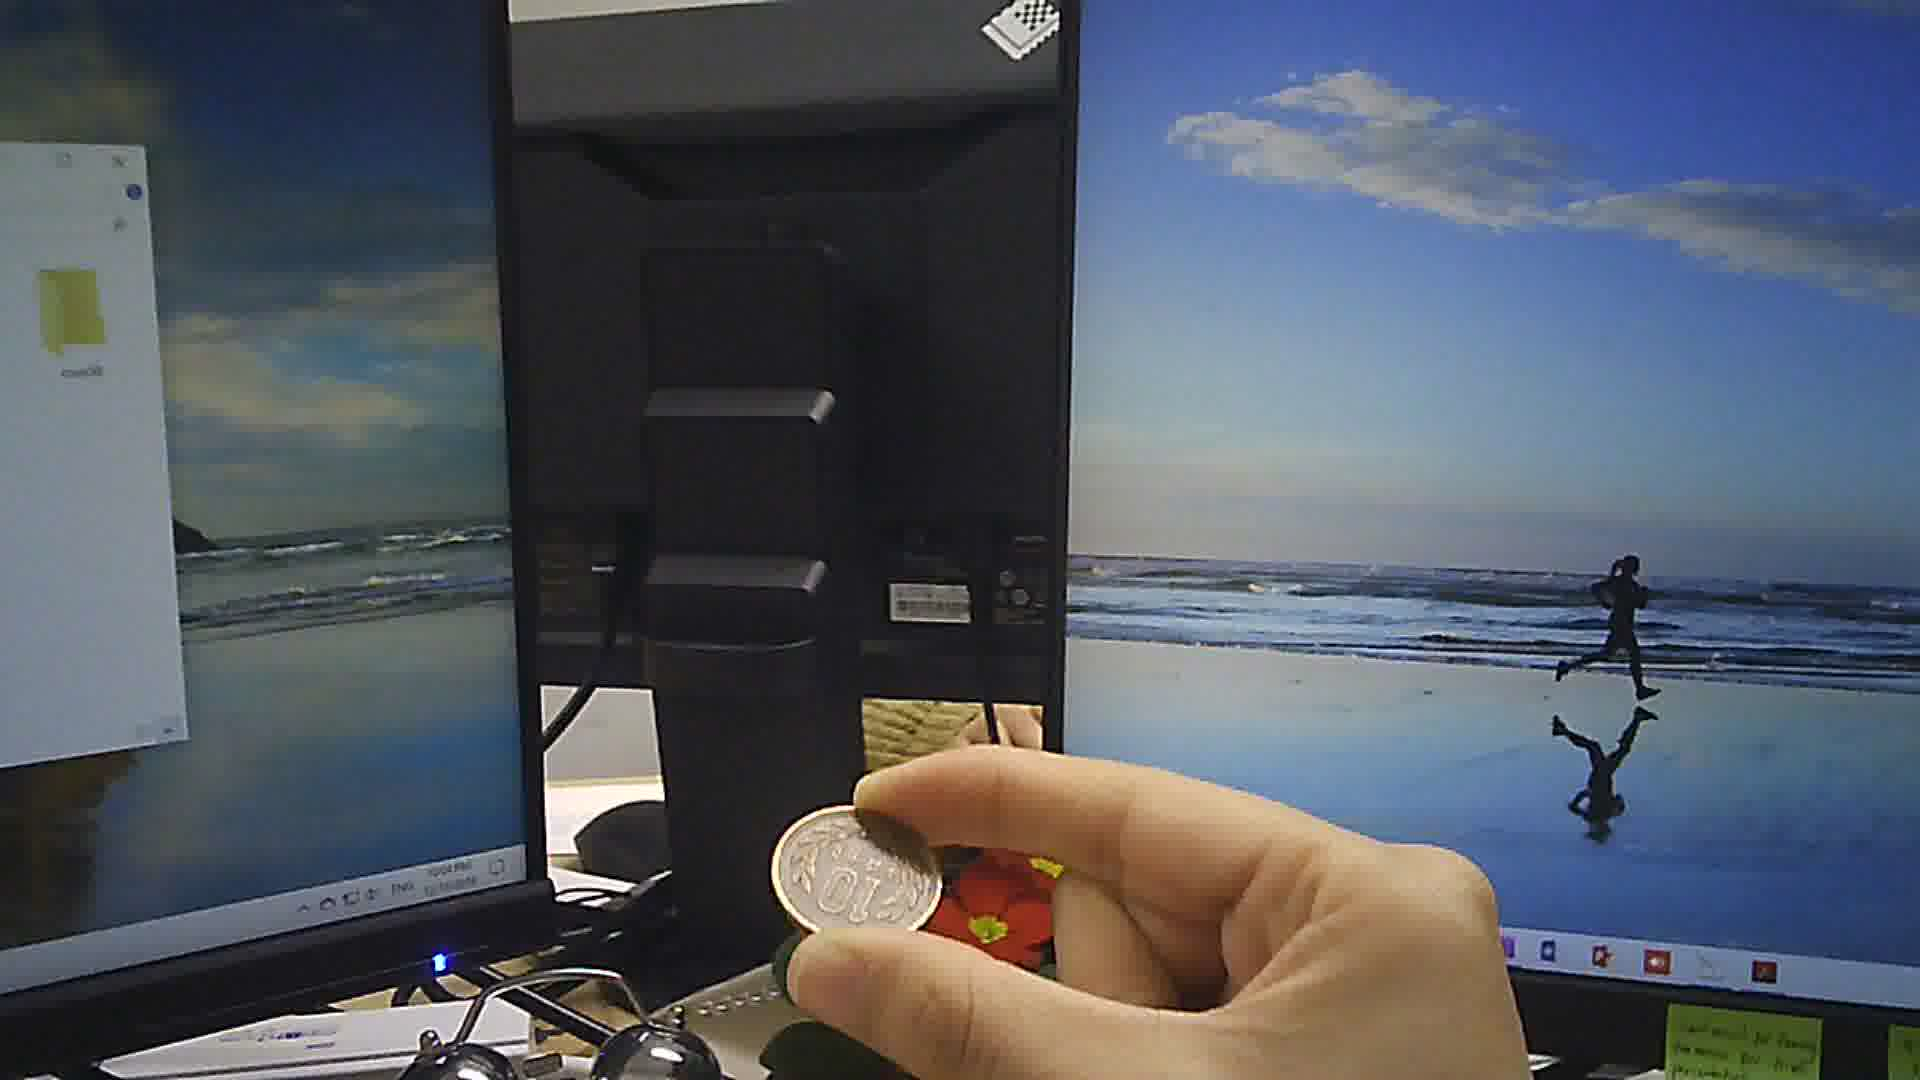10 Yen: (769, 808, 951, 934)
